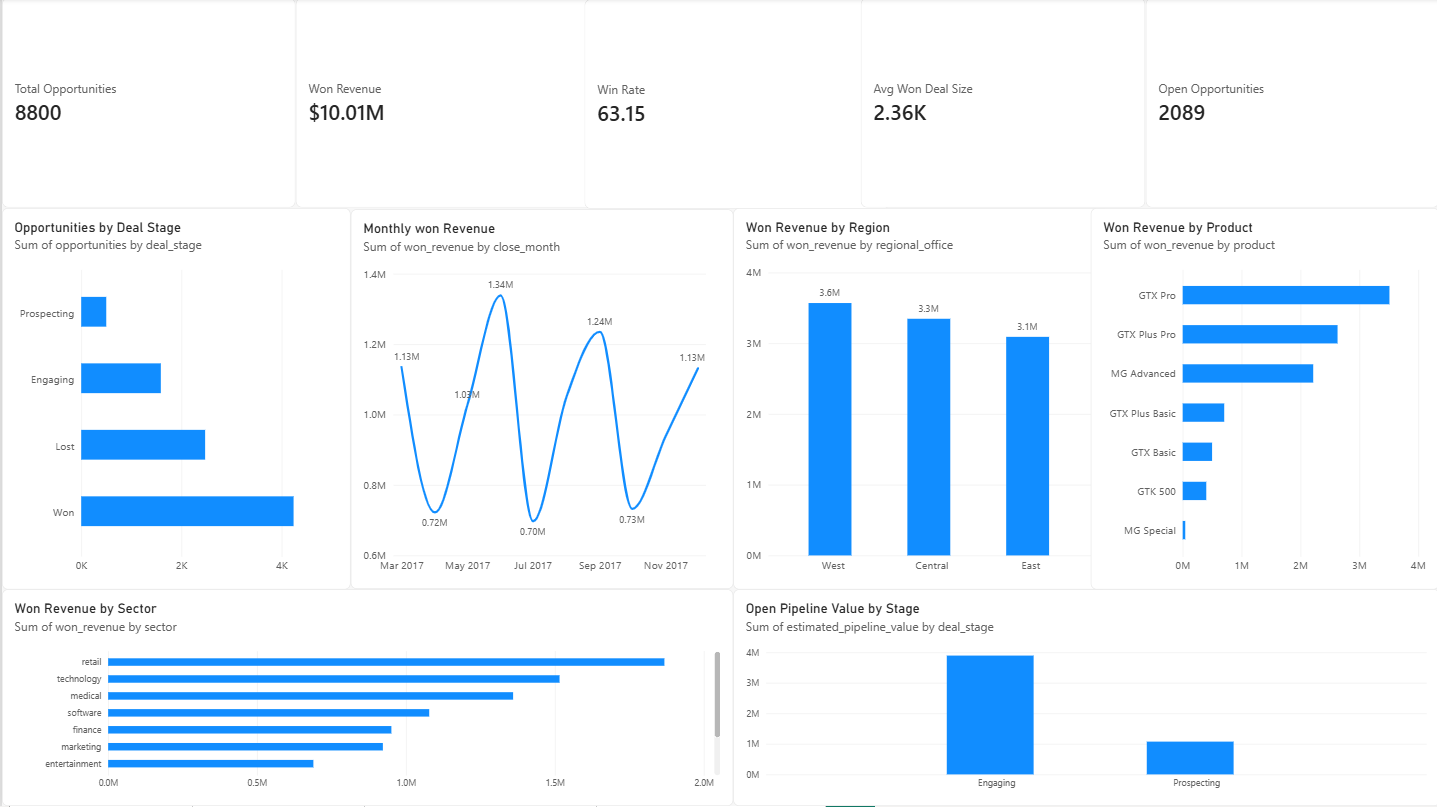

The dashboard page shown, as its layout file describes it:
{"tool":"powerbi","page":{"name":"Executive Overview","canvas":[1920,1080],"ordinal":0},"visuals":[{"type":"cardVisual","fields":{"Data":["Sum(kpi_summary.total_opportunities)"]},"box":[0,0,392.4,280.8],"z":0},{"type":"cardVisual","fields":{"Data":["Sum(kpi_summary.won_revenue)"]},"box":[392.4,0,402.9,280.8],"z":1000},{"type":"cardVisual","fields":{"Data":["Sum(kpi_summary.win_rate_pct)"]},"box":[777.9,1.7,408.1,280.8],"z":2000},{"type":"cardVisual","fields":{"Data":["Sum(kpi_summary.avg_won_deal_size)"]},"box":[1147.7,0,380.2,280.8],"z":3000},{"type":"cardVisual","fields":{"Data":["Sum(kpi_summary.open_opportunities)"]},"box":[1527.9,0,392.4,280.8],"z":4000},{"type":"barChart","title":"Opportunities by Deal Stage","fields":{"Category":["sales_funnel.deal_stage"],"Y":["Sum(sales_funnel.opportunities)"]},"box":[0,280.8,465.7,509.3],"z":5000},{"type":"lineChart","title":"Monthly won Revenue","fields":{"Category":["monthly_revenue.close_month"],"Y":["Sum(monthly_revenue.won_revenue)"]},"box":[465.7,282.6,511,507.6],"z":6000},{"type":"clusteredColumnChart","title":"Won Revenue by Region","fields":{"Category":["regional_performance.regional_office"],"Y":["Sum(regional_performance.won_revenue)"]},"box":[976.7,280.8,500.6,509.3],"z":7000},{"type":"clusteredBarChart","title":"Won Revenue by Product","fields":{"Category":["product_performance.product"],"Y":["Sum(product_performance.won_revenue)"]},"box":[1454.7,280.8,465.7,509.3],"z":8000},{"type":"clusteredBarChart","title":"Won Revenue by Sector","fields":{"Category":["sector_performance.sector"],"Y":["Sum(sector_performance.won_revenue)"]},"box":[0,790.1,976.7,289.5],"z":9000},{"type":"clusteredColumnChart","title":"Open Pipeline Value by Stage","fields":{"Category":["open_pipeline.deal_stage"],"Y":["Sum(open_pipeline.estimated_pipeline_value)"]},"box":[976.7,790.1,943.6,289.5],"z":10000}]}

Visuals, with their boxes in screenshot pixels (x1, y1, x2, y2), scaled from the page's 1920x1080 canvas onto the 1437x807 screenshot:
cardVisual - Sum(kpi_summary.total_opportunities): pyautogui.locateOnScreen(0, 0, 294, 210)
cardVisual - Sum(kpi_summary.won_revenue): pyautogui.locateOnScreen(294, 0, 595, 210)
cardVisual - Sum(kpi_summary.win_rate_pct): pyautogui.locateOnScreen(582, 1, 888, 211)
cardVisual - Sum(kpi_summary.avg_won_deal_size): pyautogui.locateOnScreen(859, 0, 1144, 210)
cardVisual - Sum(kpi_summary.open_opportunities): pyautogui.locateOnScreen(1144, 0, 1436, 210)
"Opportunities by Deal Stage" barChart: pyautogui.locateOnScreen(0, 210, 349, 590)
"Monthly won Revenue" lineChart: pyautogui.locateOnScreen(349, 211, 731, 590)
"Won Revenue by Region" clusteredColumnChart: pyautogui.locateOnScreen(731, 210, 1106, 590)
"Won Revenue by Product" clusteredBarChart: pyautogui.locateOnScreen(1089, 210, 1436, 590)
"Won Revenue by Sector" clusteredBarChart: pyautogui.locateOnScreen(0, 590, 731, 806)
"Open Pipeline Value by Stage" clusteredColumnChart: pyautogui.locateOnScreen(731, 590, 1436, 806)
